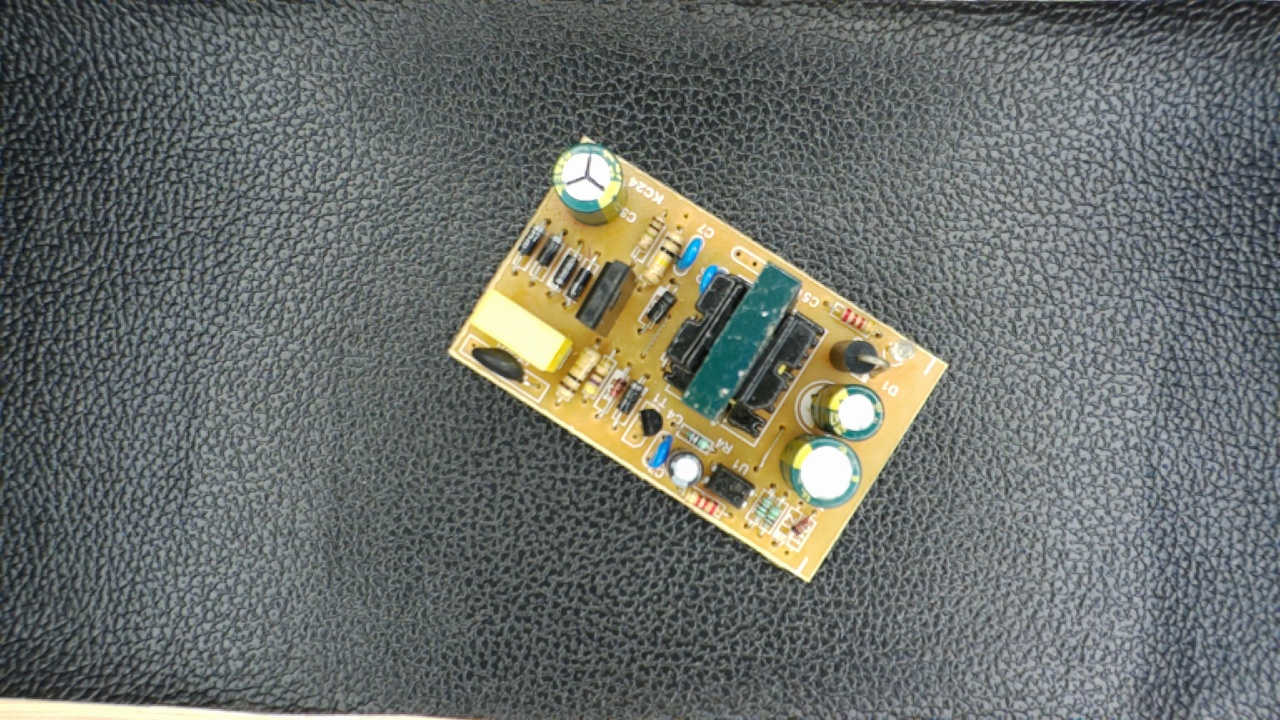fuse: (459, 338, 542, 392)
hv_capacitor: (551, 137, 633, 225)
optocoupler: (695, 459, 761, 512)
